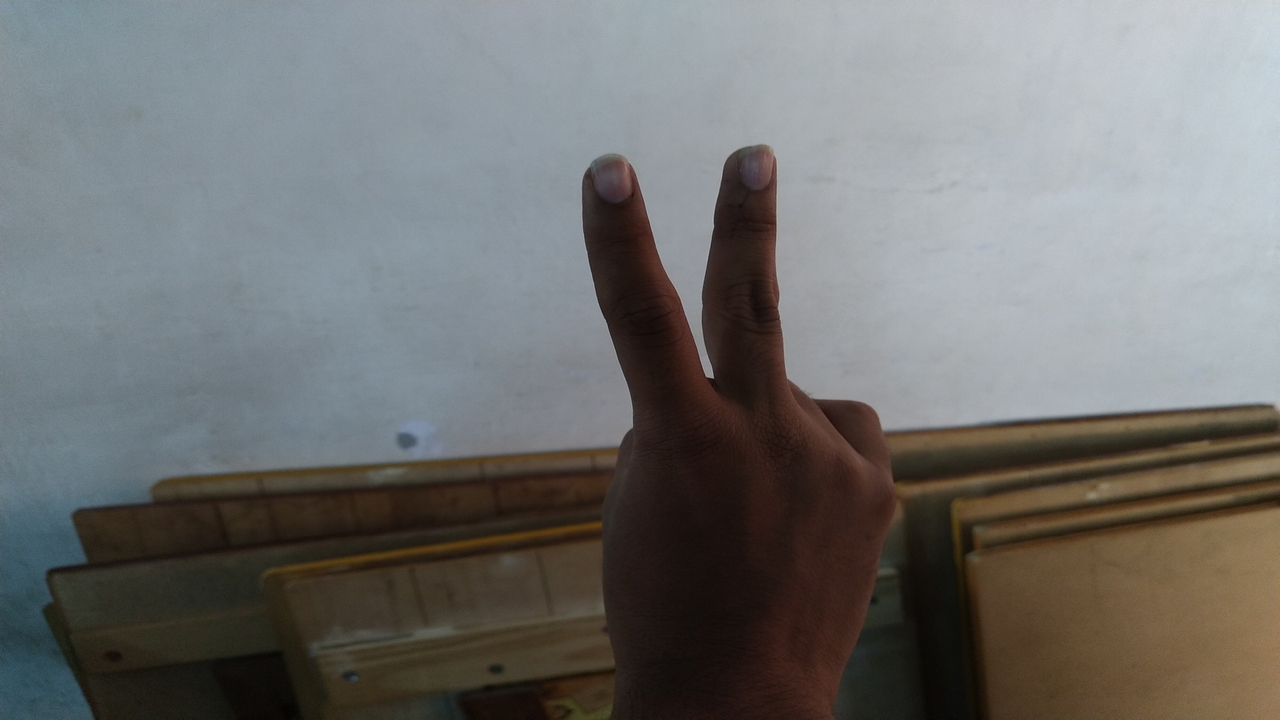fingertip: (580, 152, 650, 214), (722, 142, 786, 198)
